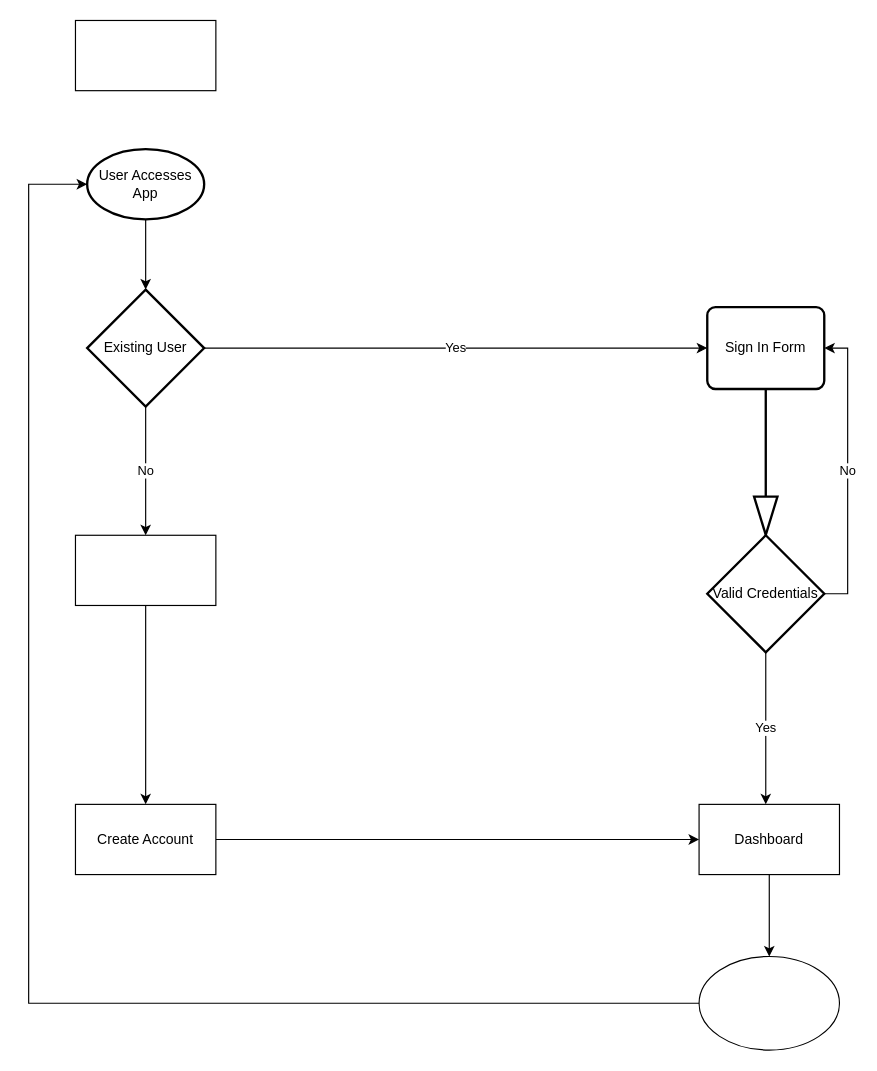
Some shapes in this 877 by 1071 pixel diagram are drawn without their labels. Each missing label, with the centre of its shape:
Logout: [768,1002]
Sign Up Form: [145,569]
User Authentication Flowchart: [145,55]
